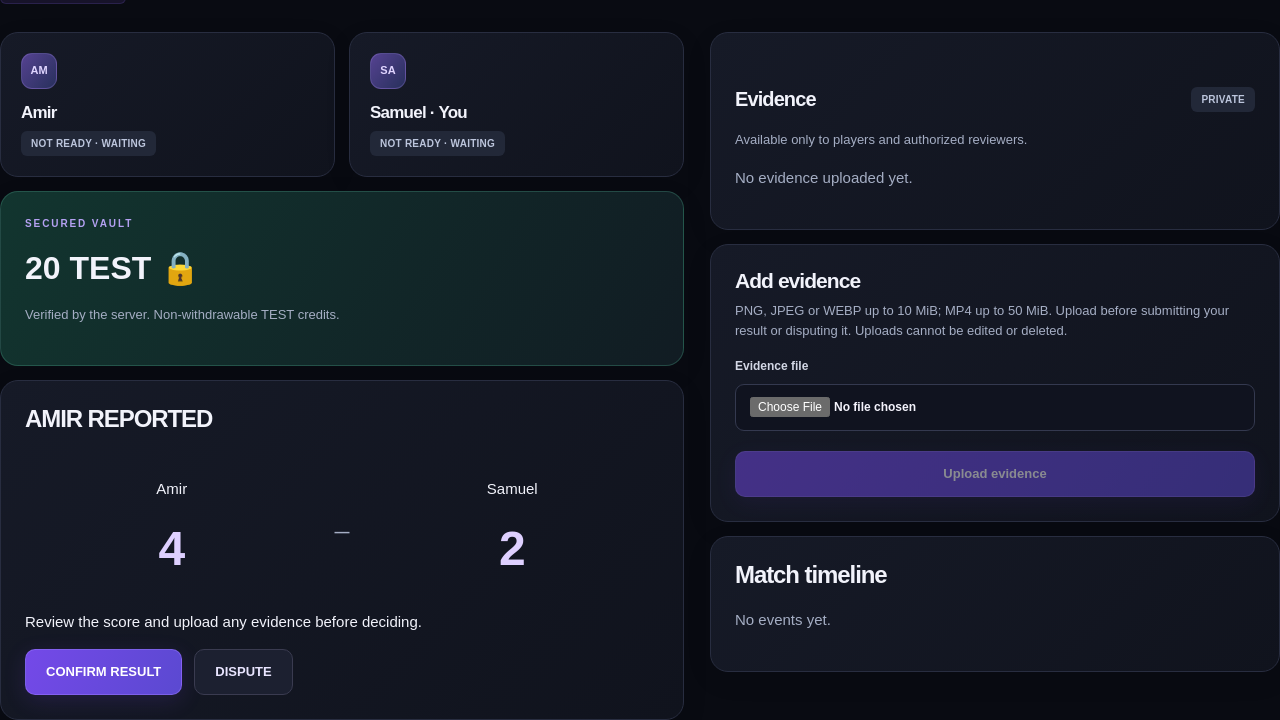
Test case: requires opponent confirmation and refreshes the settled balance
This screenshot has width=1280, height=720.
(page scrolled)
Click the button "CONFIRM RESULT": (104, 672) [25,650,182,696]
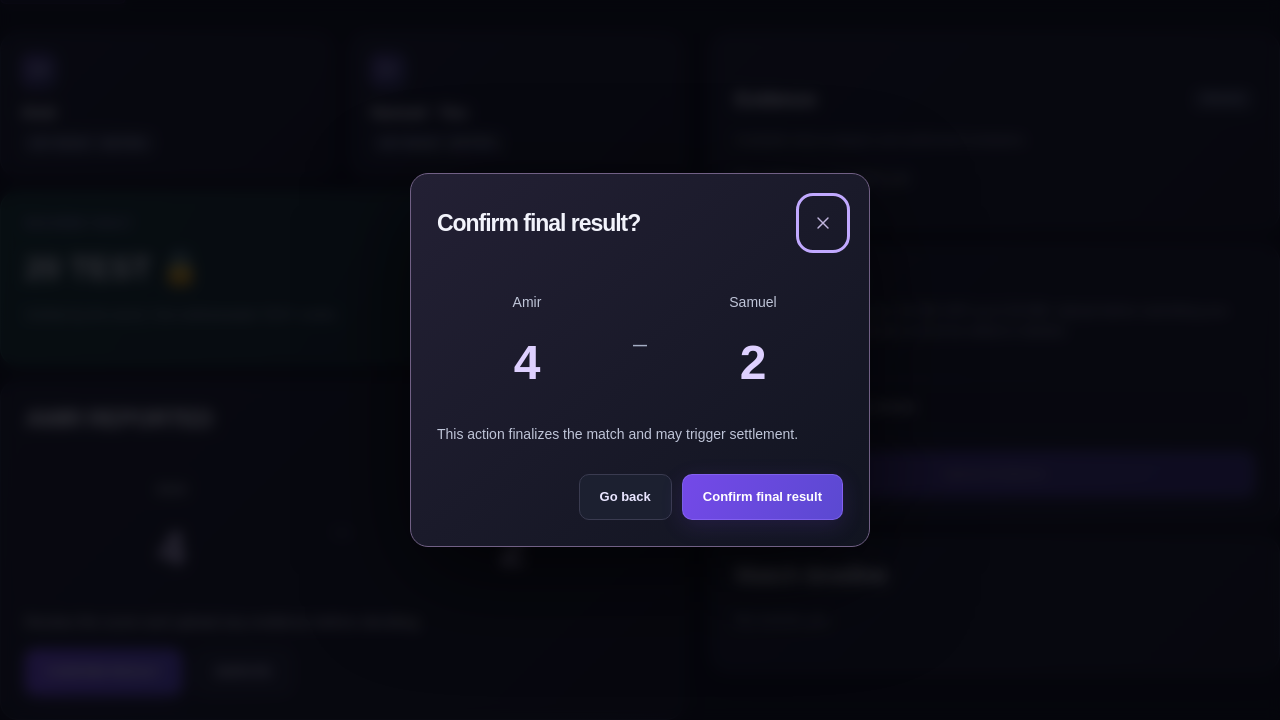
Expected: the dialog shows "may trigger settlement", [437,426,798,442]
Click the button "Confirm final result": (762, 497) [682,474,843,520]
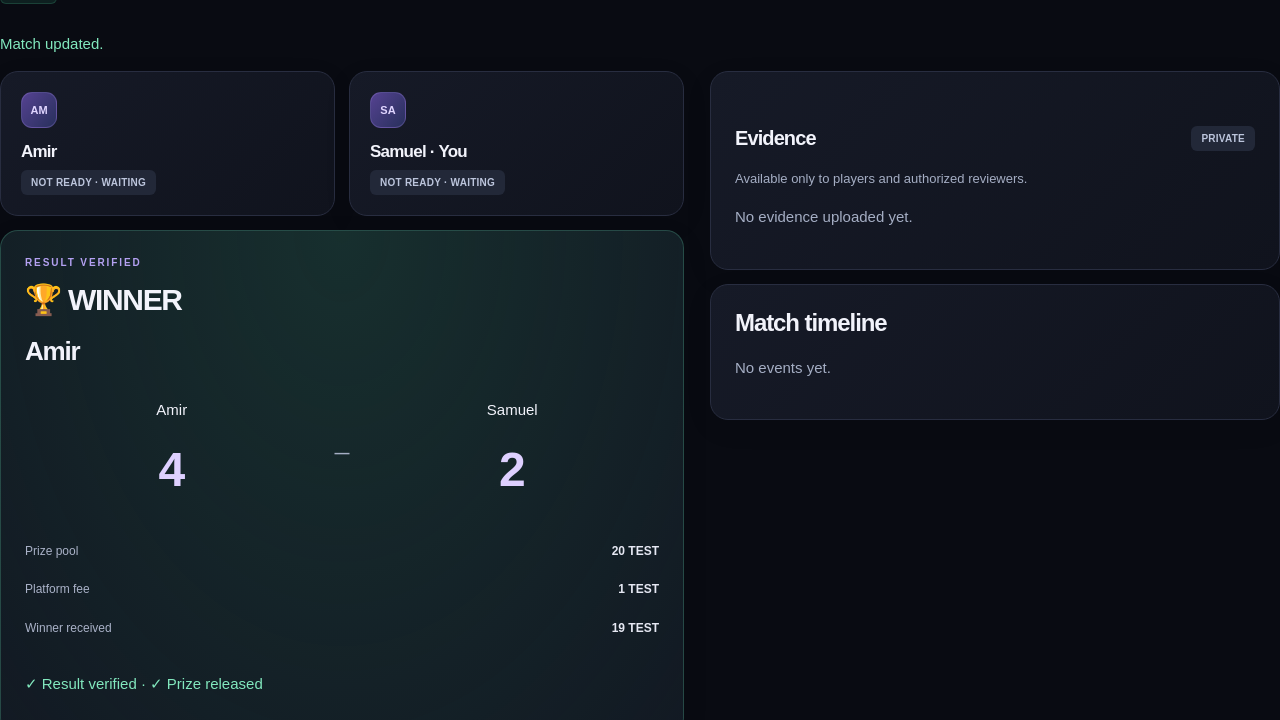
Expected: the text "19 TEST" is shown, [612,619,659,638]
Expected: the text "20 TEST" is shown, [612,542,659,560]
Expected: the text "1 TEST" is shown, [618,580,659,599]
